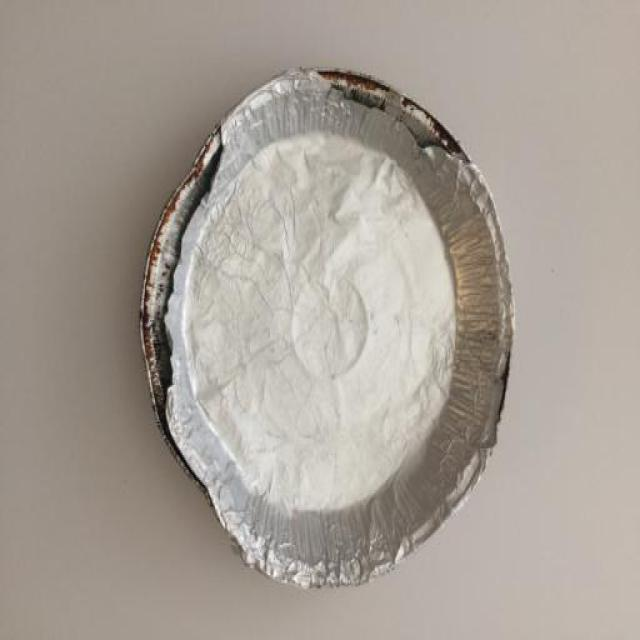Metal: (140, 68, 511, 592)
